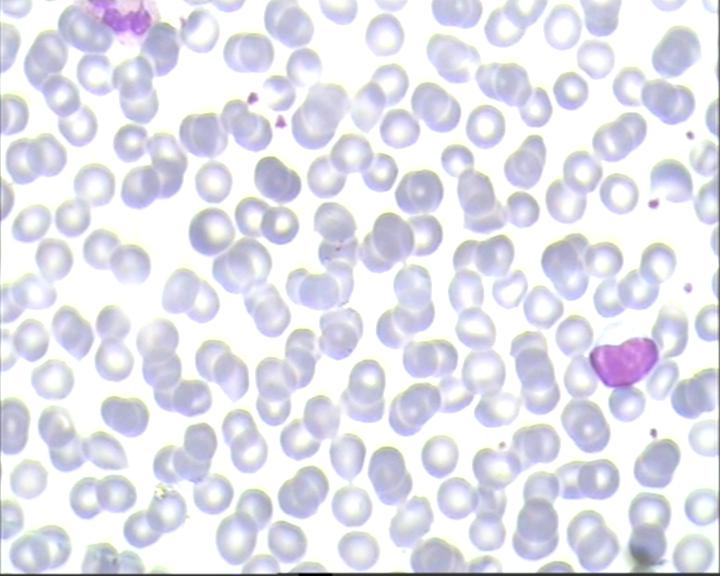lymp: (581, 316, 665, 393)
